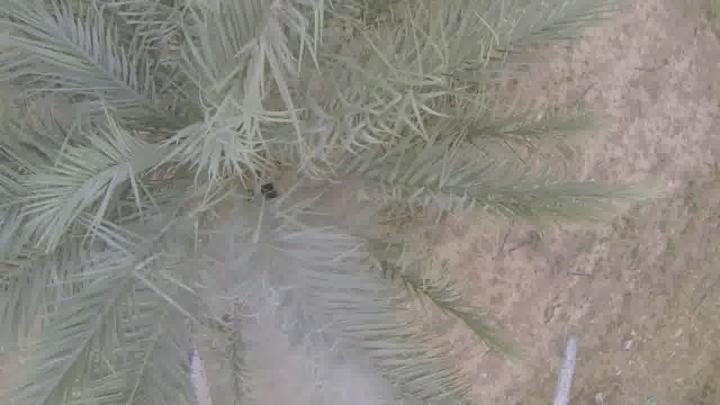Date-Palm-Crown: (0, 0, 424, 354)
